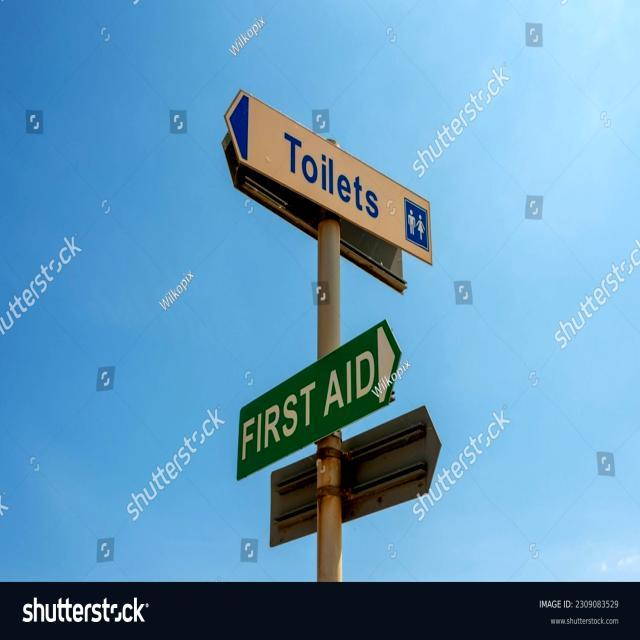Traffic sign: (218, 86, 446, 550)
